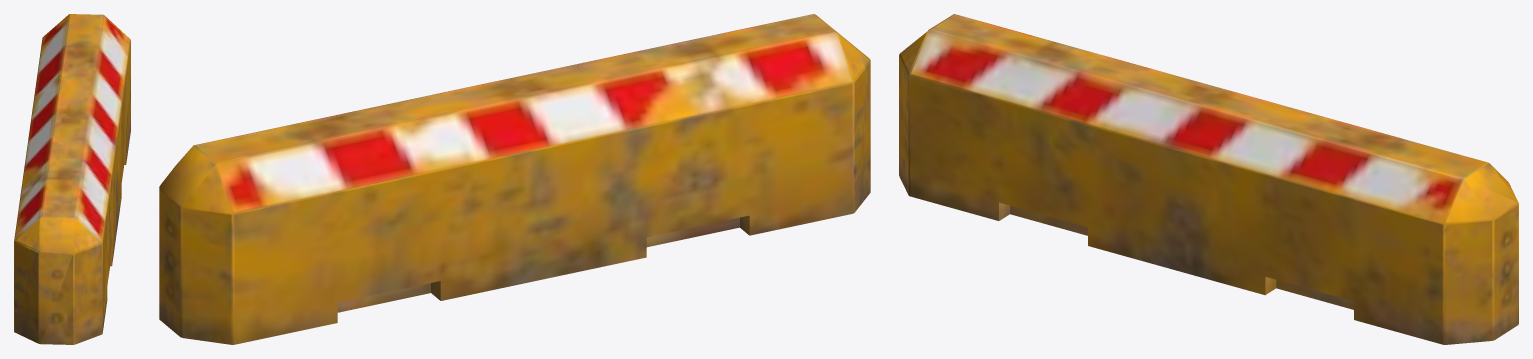
File: road-barrier.lod1.glb
3 renders of one model, left to right at view 1: azimuth 30°, elevation 25°; view 2: azimuth 150°, elevation 25°; view 3: azimuth 270°, elevation 25°, orthographic. The views are drawn at different scales.
Parts seen in each view (by area): view 1: Object_17; view 2: Object_17; view 3: Object_17.
Part boxes in pixels (x1=…): Object_17: x1=14, y1=14, x2=130, y2=344; Object_17: x1=159, y1=14, x2=870, y2=344; Object_17: x1=899, y1=14, x2=1518, y2=344.
Bounding box in the file's own units: 1.66 × 0.6255 × 2.29.
1 material, 1 textured.
